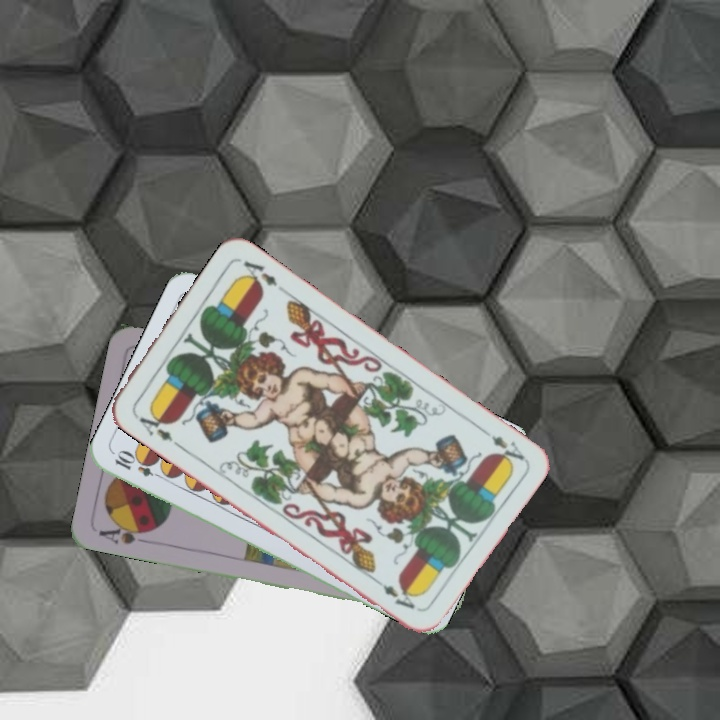E10: (110, 448, 168, 482)
EA: (475, 423, 528, 468), (130, 406, 176, 445)
SA: (94, 518, 155, 547)
